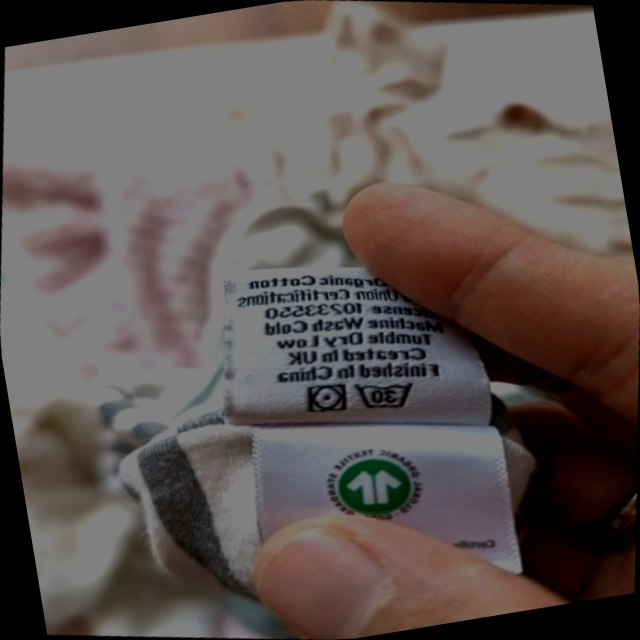30C: (346, 367, 424, 423)
tumble_dry_low: (298, 373, 355, 424)
